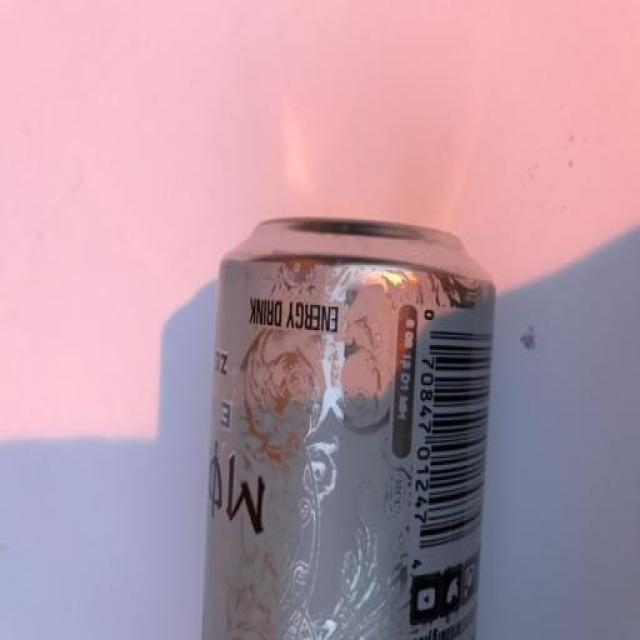metel: (211, 197, 487, 640)
